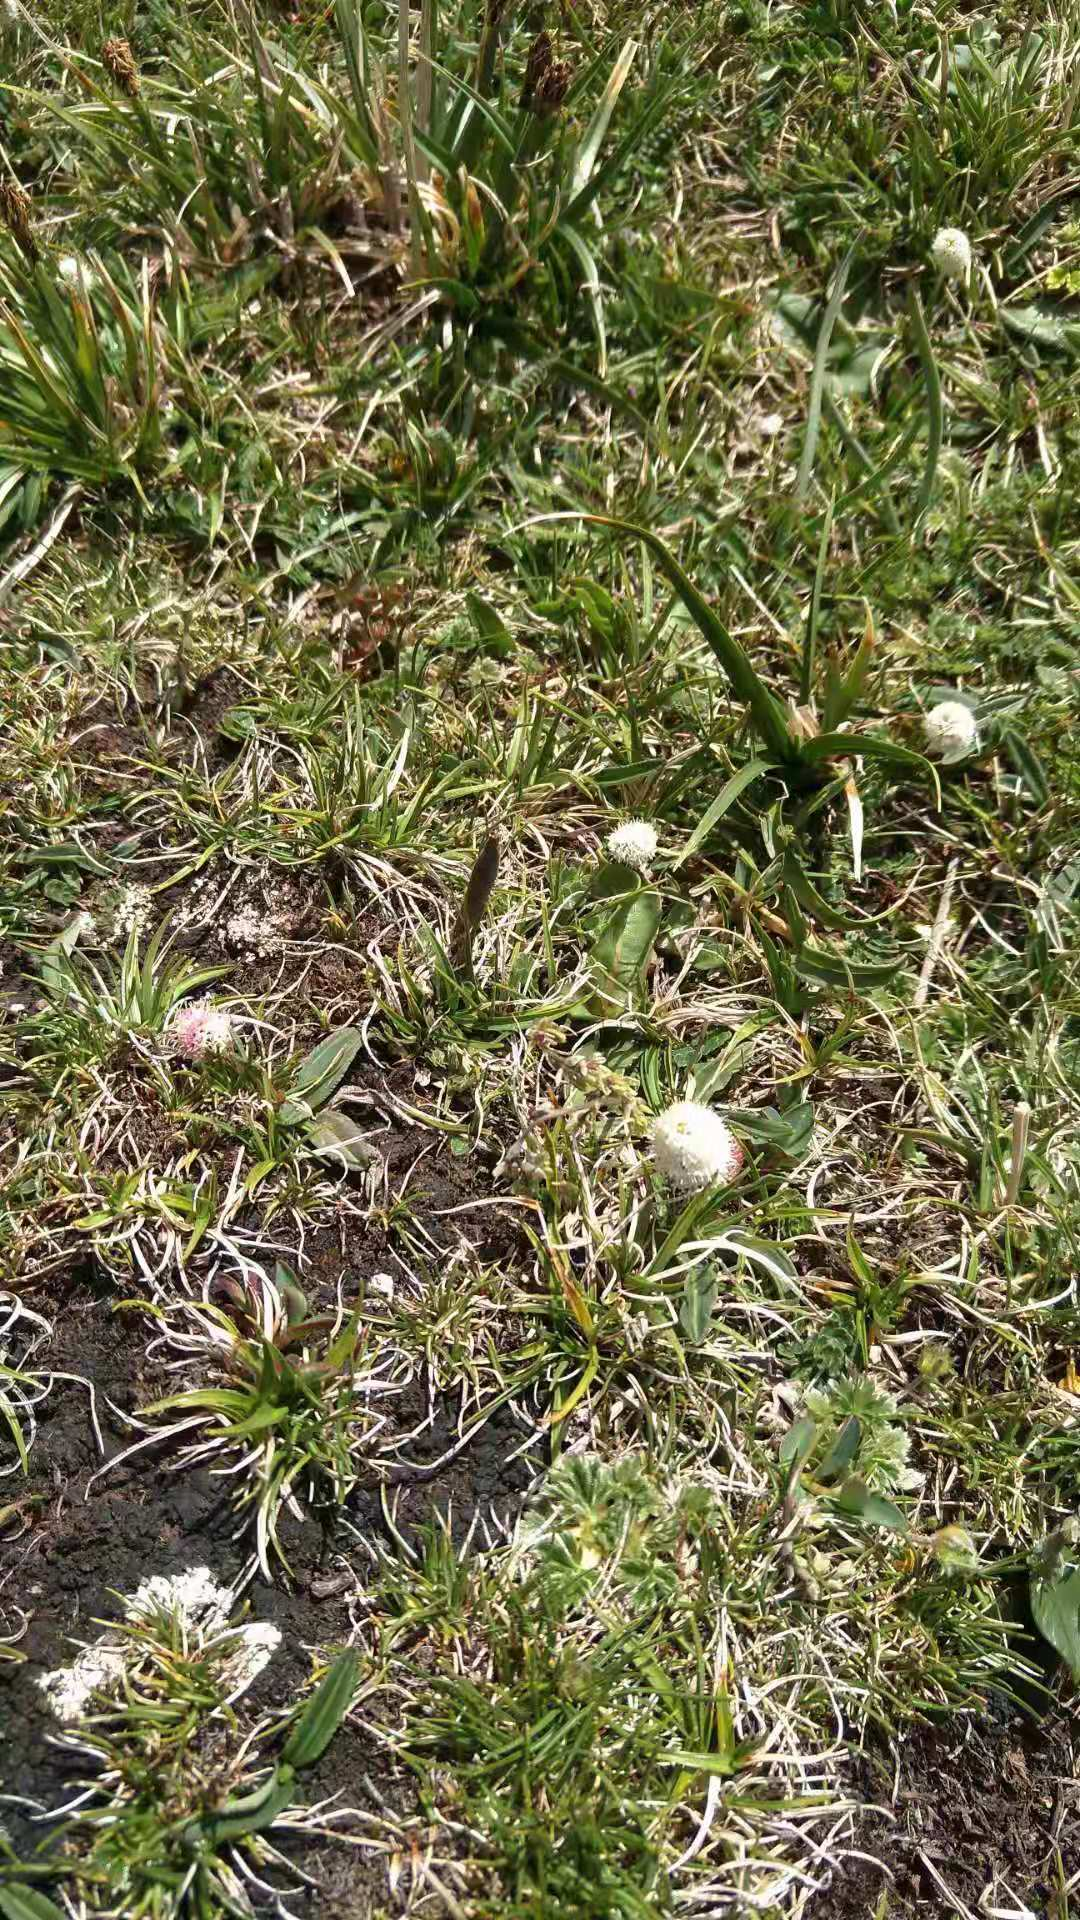cpf: (443, 827, 506, 984)
